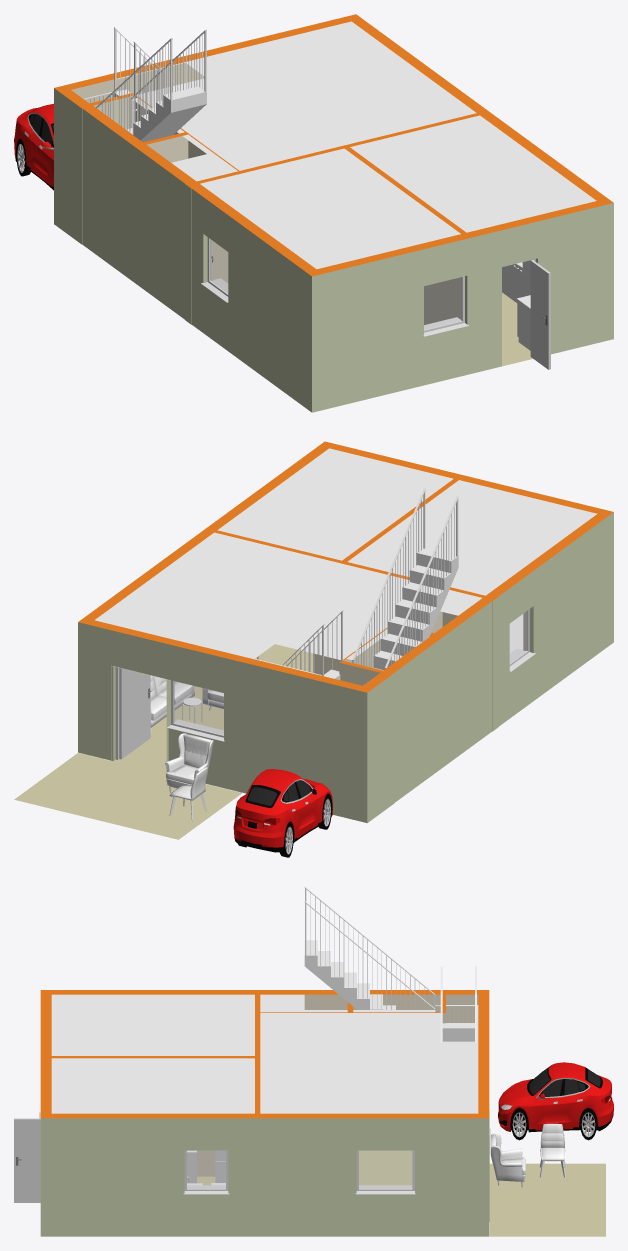
3 renders of one model, top to bottom at view 1: azimuth 30°, elevation 25°; view 2: azimuth 150°, elevation 25°; view 3: azimuth 270°, elevation 25°, orthographic. The views are drawn at different scales.
Parts seen in each view (by area): view 1: ceiling room74, wall5 exterior, ceiling room2, wall6 exterior, ceiling room8, wall4 exterior, levelSection0 level1, wall51 exterior, wall71 exterior, stairs91, wall81 exterior, outdoor.sedan113 (+13 smaller); view 2: wall82 exterior, ceiling room74, wall6 exterior, ceiling room8, ceiling room2, levelSection0 level1, floor room99, stairs91, wall51 exterior, wall71 exterior, outdoor.sedan113, wall81 exterior (+12 smaller); view 3: wall83 exterior, wall10 exterior, ceiling room74, ceiling room2, ceiling room8, levelSection0 level1, floor room99, outdoor.sedan113, stairs91, door96, door29, door38 (+9 smaller).
Boxes of the visible parts, bbox=[...] form: ceiling room74: bbox=[117, 21, 476, 170]; wall5 exterior: bbox=[312, 238, 469, 412]; ceiling room2: bbox=[200, 148, 460, 269]; wall6 exterior: bbox=[192, 189, 311, 412]; ceiling room8: bbox=[350, 115, 596, 232]; wall4 exterior: bbox=[470, 203, 613, 373]; levelSection0 level1: bbox=[54, 14, 613, 276]; wall51 exterior: bbox=[132, 145, 184, 318]; wall71 exterior: bbox=[82, 108, 132, 280]; stairs91: bbox=[96, 29, 206, 142]; wall81 exterior: bbox=[54, 88, 81, 244]; outdoor.sedan113: bbox=[14, 103, 53, 190]; wall82 exterior: bbox=[78, 622, 367, 822]; ceiling room74: bbox=[95, 532, 409, 675]; wall6 exterior: bbox=[499, 512, 613, 725]; ceiling room8: bbox=[217, 448, 453, 560]; ceiling room2: bbox=[347, 480, 597, 595]; levelSection0 level1: bbox=[78, 441, 613, 692]; floor room99: bbox=[14, 753, 241, 839]; stairs91: bbox=[352, 488, 458, 670]; wall51 exterior: bbox=[441, 601, 492, 767]; wall71 exterior: bbox=[394, 638, 441, 802]; outdoor.sedan113: bbox=[233, 769, 332, 857]; wall81 exterior: bbox=[367, 673, 394, 822]; wall83 exterior: bbox=[249, 1118, 489, 1236]; wall10 exterior: bbox=[40, 1118, 249, 1236]; ceiling room74: bbox=[260, 1013, 478, 1113]; ceiling room2: bbox=[51, 994, 254, 1055]; ceiling room8: bbox=[51, 1058, 254, 1113]; levelSection0 level1: bbox=[40, 990, 489, 1118]; floor room99: bbox=[489, 1163, 605, 1236]; outdoor.sedan113: bbox=[498, 1062, 613, 1140]; stairs91: bbox=[304, 886, 435, 1009]; door96: bbox=[355, 1150, 415, 1194]; door29: bbox=[14, 1118, 40, 1202]; door38: bbox=[183, 1150, 229, 1194].
Size of the model in its own units: 6.44 by 5.25 by 12.59.
